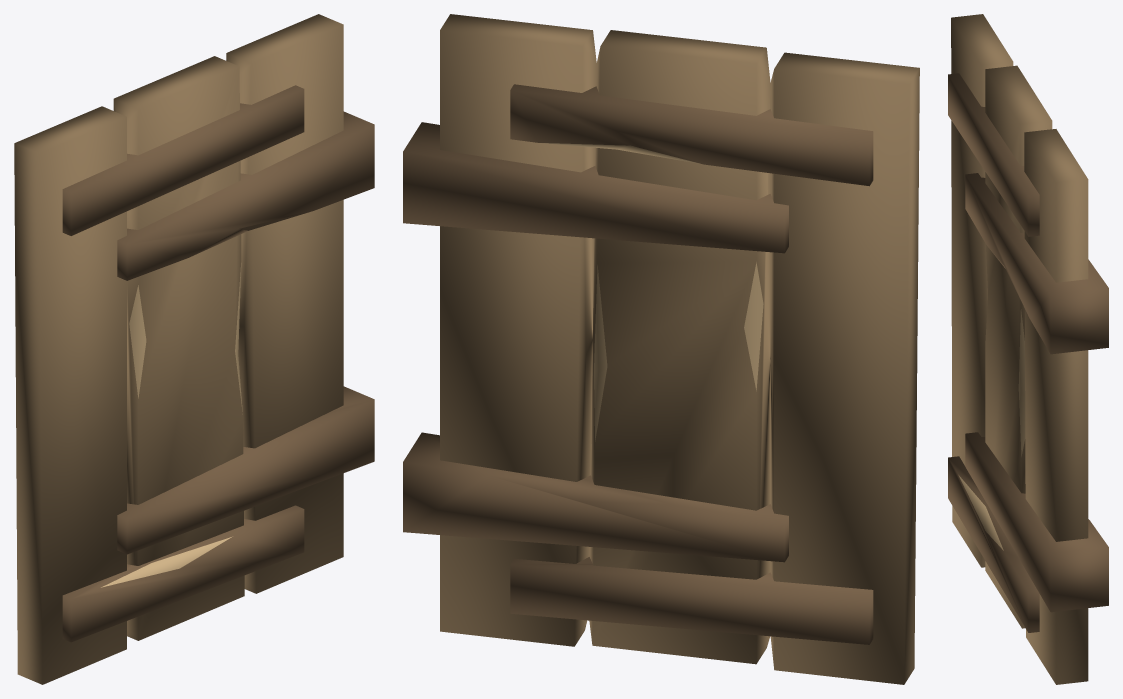
File: rpgpp_ag_window_01_shutter_l.fbx
3 views of the same model, side by side, from view 1: azimuth 30°, elevation 25°; view 2: azimuth 150°, elevation 25°; view 3: azimuth 270°, elevation 25° (orthographic). The views are drawn at different scales.
Visible parts, largest first — view 1: rpgpp_ag_window_01_shutter_l; view 2: rpgpp_ag_window_01_shutter_l; view 3: rpgpp_ag_window_01_shutter_l.
Part boxes in pixels (<box>): rpgpp_ag_window_01_shutter_l: <box>14,14,374,684</box>; rpgpp_ag_window_01_shutter_l: <box>403,14,919,684</box>; rpgpp_ag_window_01_shutter_l: <box>948,14,1108,684</box>.
Size of the model in its own units: 0.7811 by 1.01 by 0.2911.
